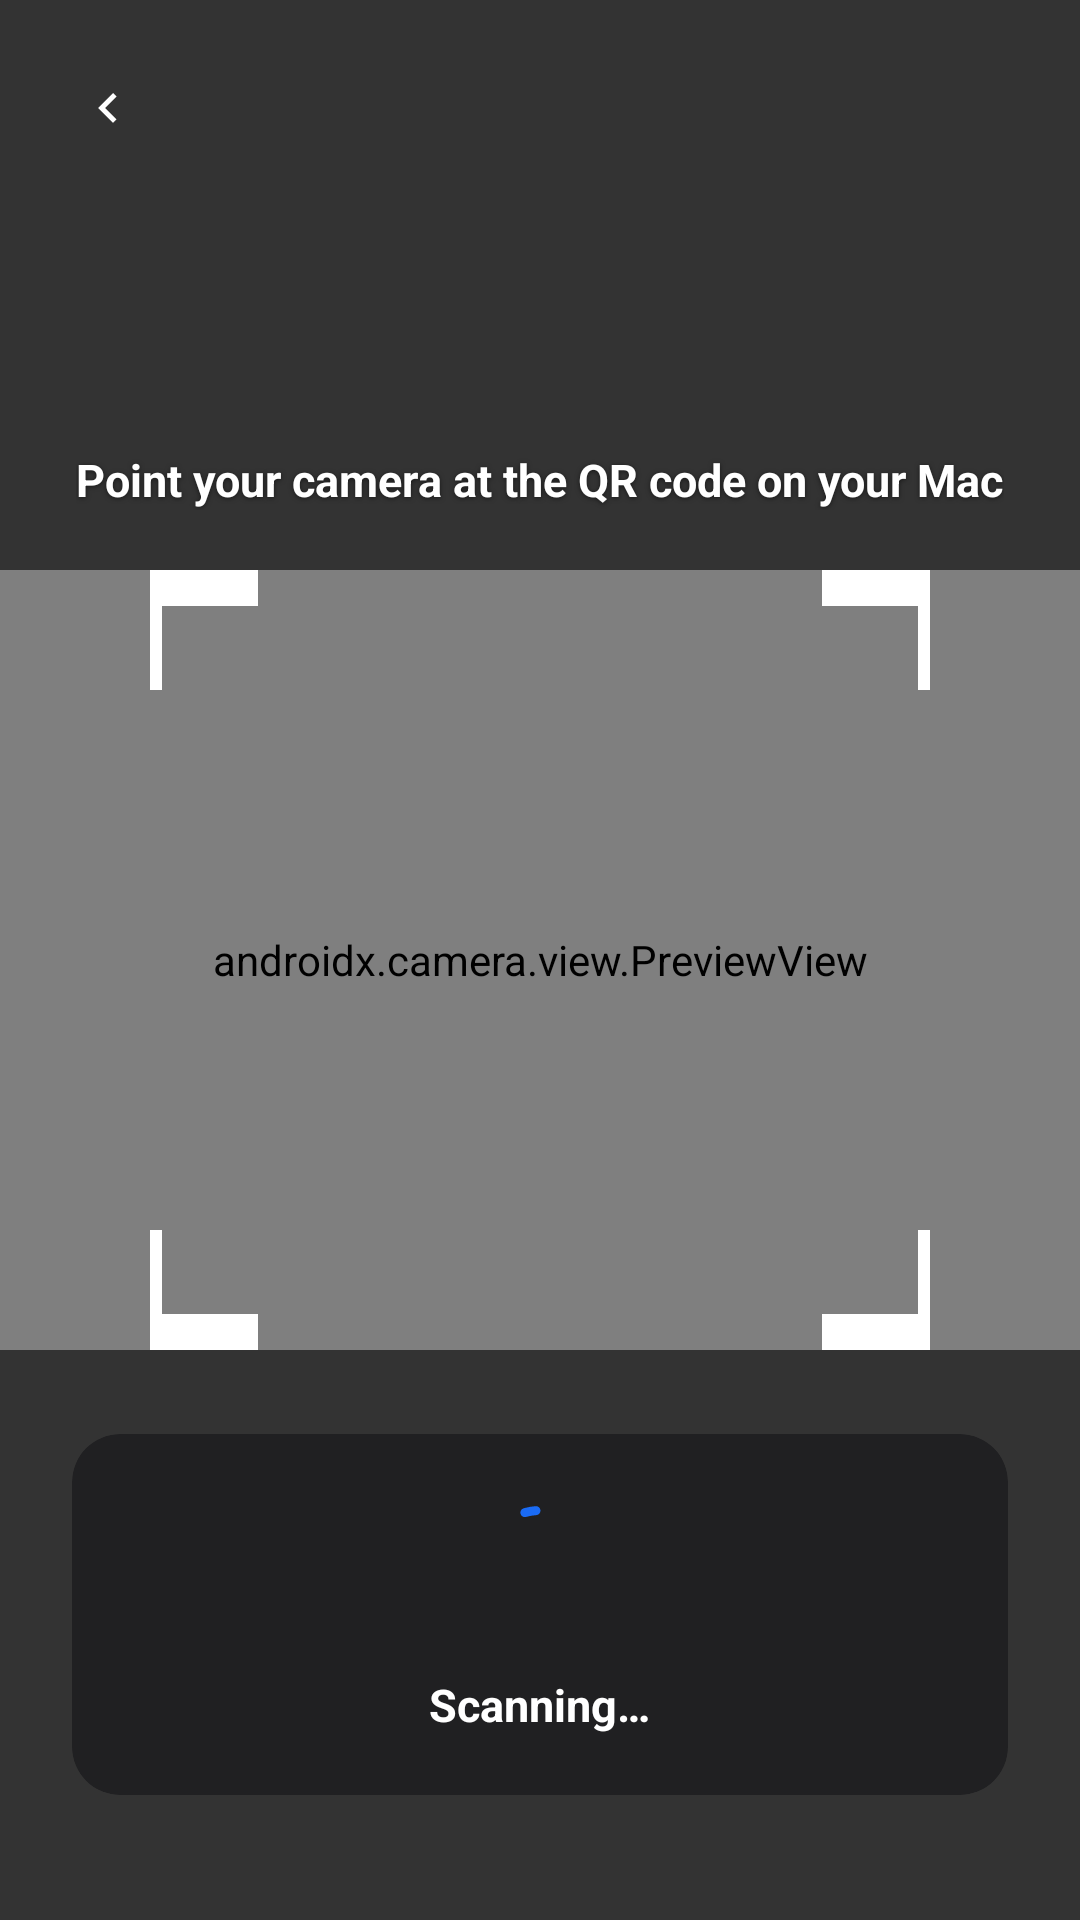

Where icons sit on this 1080px×1920px app screen, as (x1=x1, y1=y1, x2=x2, y2=y2):
Back: (x1=98, y1=93, x2=117, y2=123)
